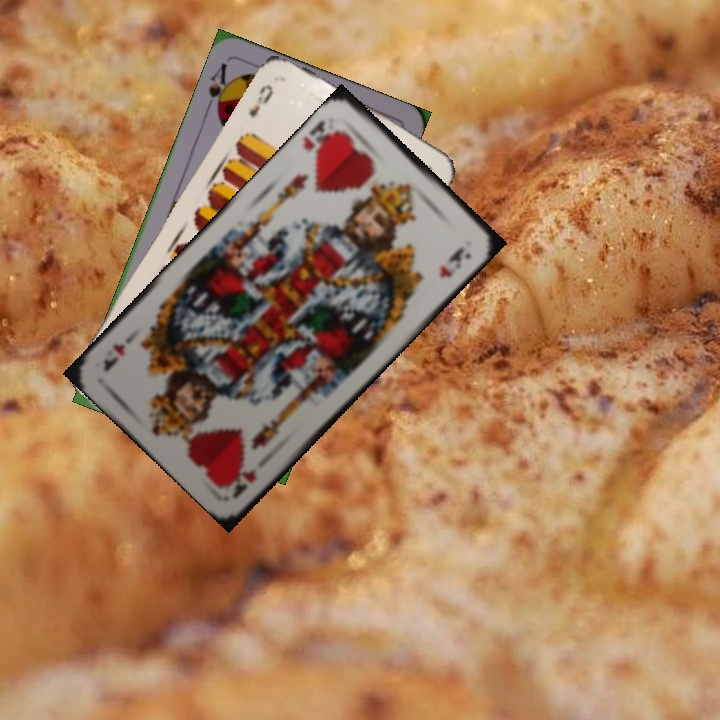E9: (245, 80, 276, 120)
HK: (298, 116, 343, 161), (222, 463, 259, 501)
SA: (202, 58, 236, 119)
